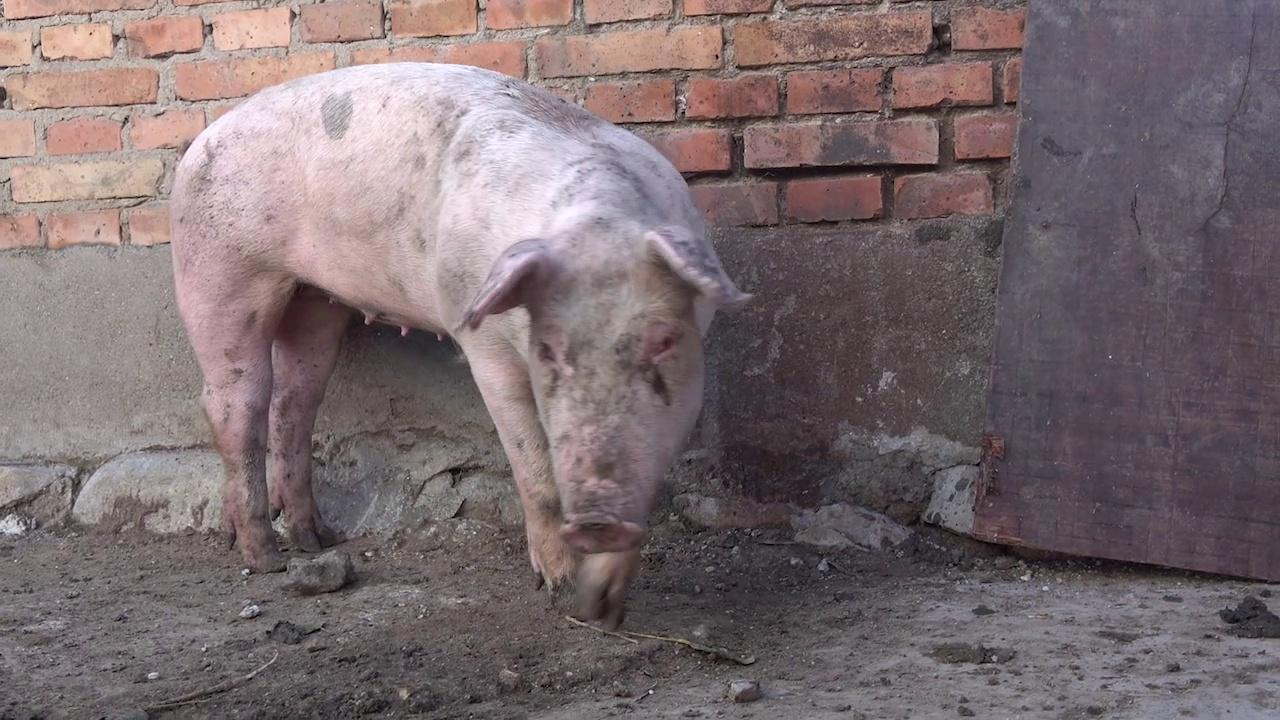Face: (449, 222, 756, 561)
